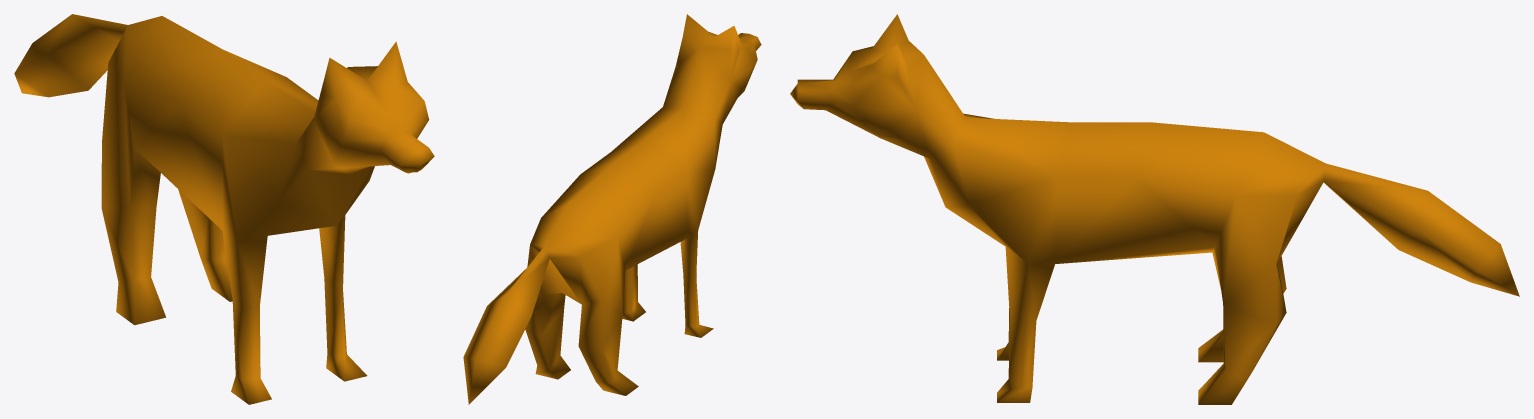
The model's file is redfox.obj.
3 views of the same model, side by side, from view 1: azimuth 30°, elevation 25°; view 2: azimuth 150°, elevation 25°; view 3: azimuth 270°, elevation 25° (orthographic). The views are drawn at different scales.
Visible parts, largest first — view 1: Cube_Cube.001; view 2: Cube_Cube.001; view 3: Cube_Cube.001.
Part boxes in pixels (x1,y1,x2,y2): Cube_Cube.001: [14, 14, 434, 404]; Cube_Cube.001: [463, 14, 761, 404]; Cube_Cube.001: [790, 14, 1519, 404].
Size of the model in its own units: 0.1639 by 0.4689 by 0.8919.
